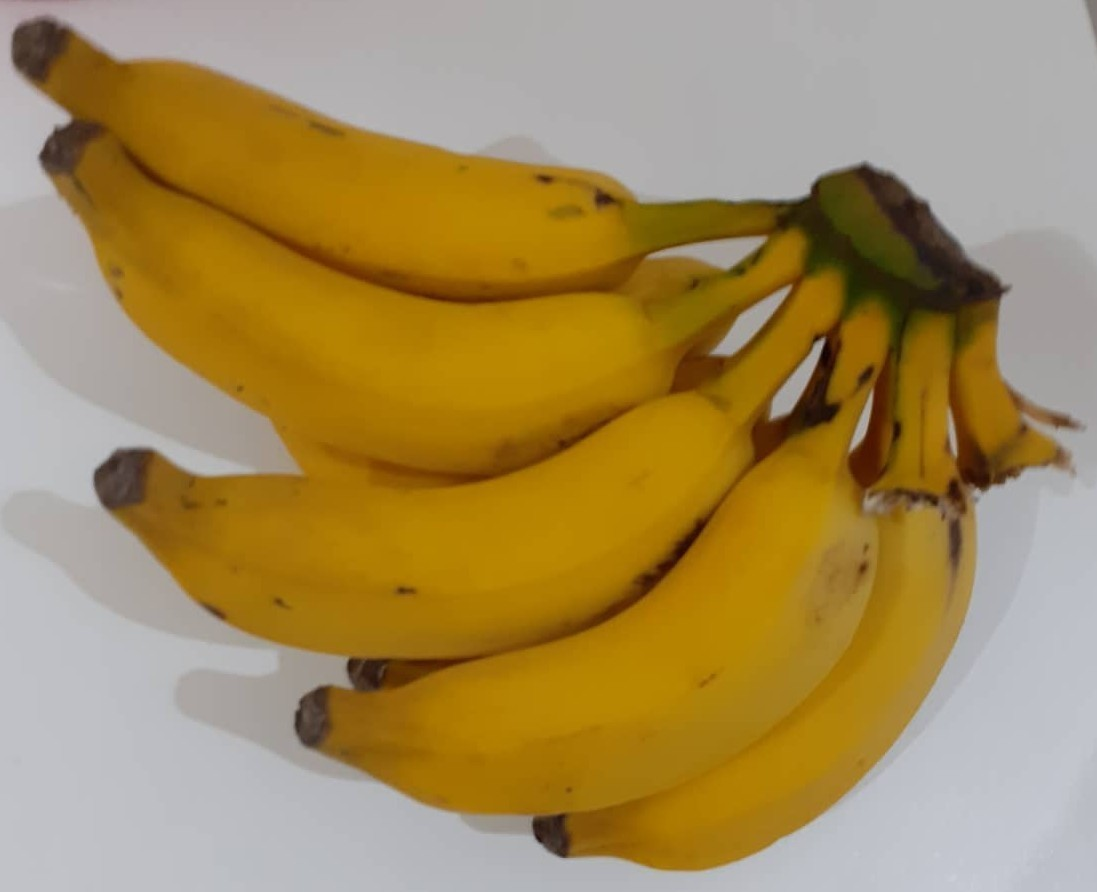banana: (74, 49, 970, 838)
